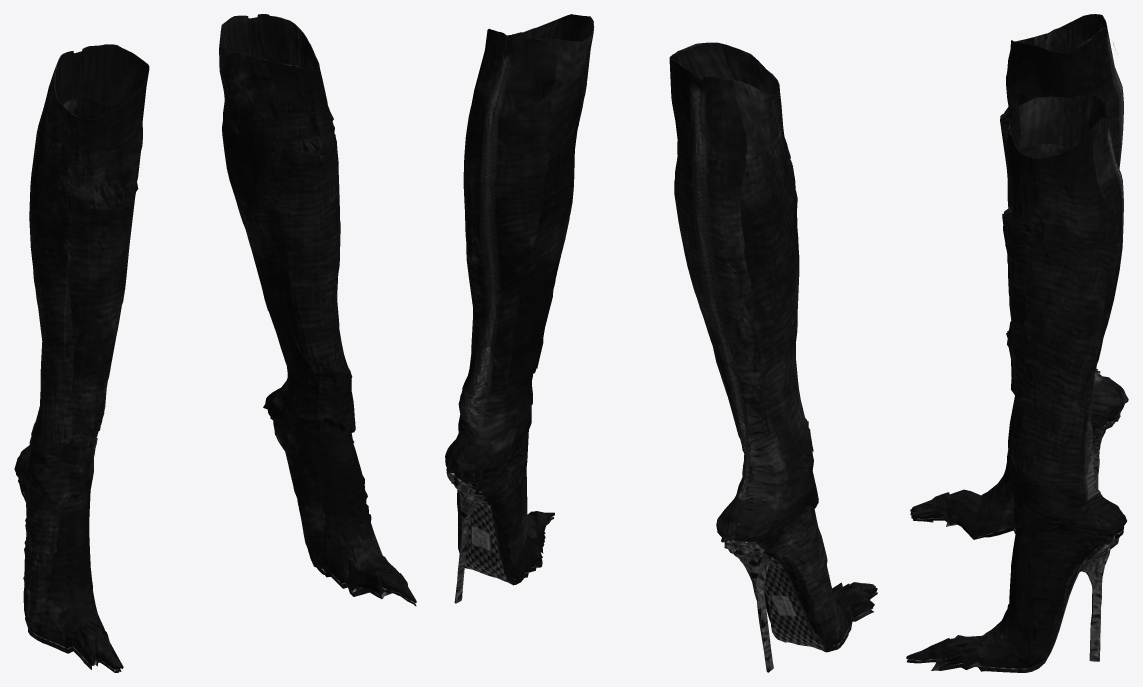
The model's file is mhw_elvs_knee_high_heel_boots1.glb.
The picture shows the model from 3 angles, left to right: view 1: azimuth 30°, elevation 25°; view 2: azimuth 150°, elevation 25°; view 3: azimuth 270°, elevation 25°; orthographic projection. The views are drawn at different scales.
Parts seen in each view (by area): view 1: mhw_elvs_knee_high_heel_boots1; view 2: mhw_elvs_knee_high_heel_boots1; view 3: mhw_elvs_knee_high_heel_boots1.
Boxes of the visible parts, box(x1,y1,x2,y2) form: mhw_elvs_knee_high_heel_boots1: box(14, 14, 416, 672); mhw_elvs_knee_high_heel_boots1: box(445, 14, 877, 672); mhw_elvs_knee_high_heel_boots1: box(906, 14, 1128, 672).
Size of the model in its own units: 0.5702 by 0.8712 by 0.3257.
1 material, 1 textured.
